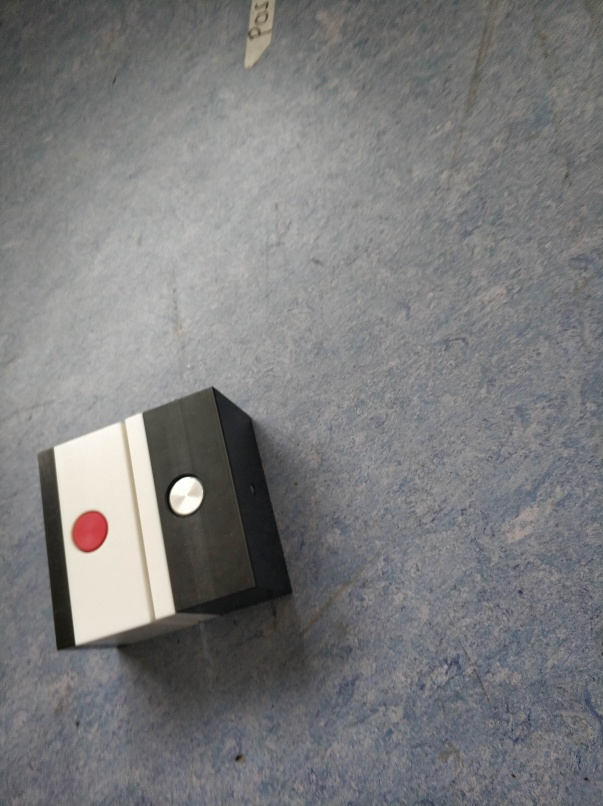black+white+red: (35, 418, 163, 655)
white+black+silver: (120, 382, 299, 627)
